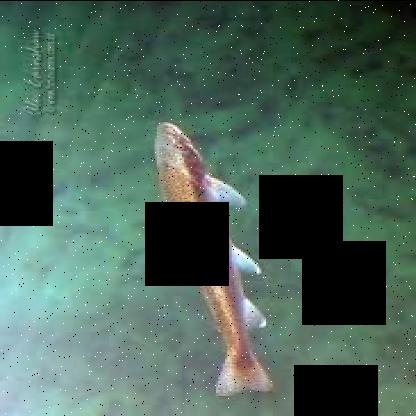fish: (152, 122, 274, 400)
